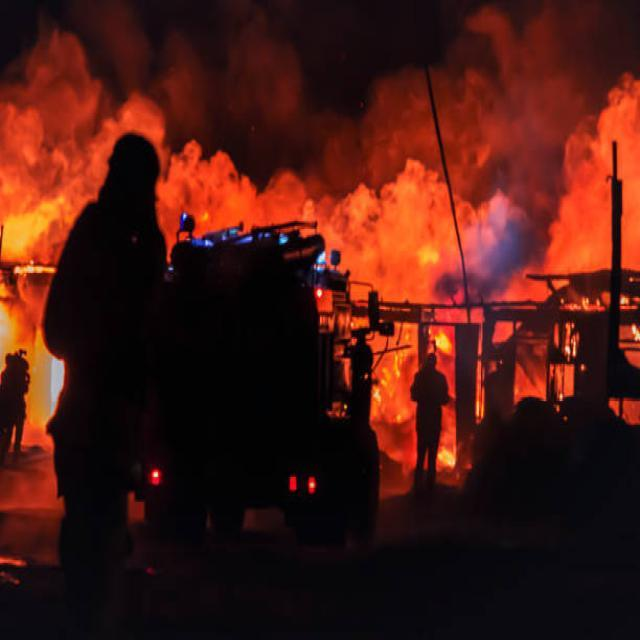Fire: (560, 286, 640, 378), (0, 194, 58, 278), (364, 345, 408, 420), (429, 328, 459, 362), (440, 432, 452, 474)
Smoke: (0, 51, 531, 334), (489, 75, 640, 342)
